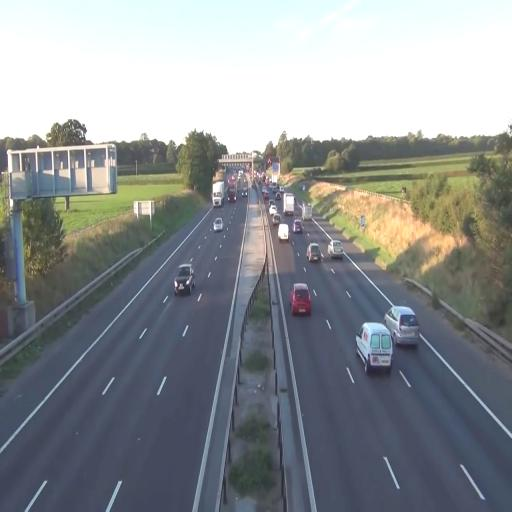vehicle: (355, 321, 393, 375), (384, 306, 420, 348), (290, 282, 312, 316), (174, 264, 194, 296), (225, 167, 238, 203), (212, 173, 224, 207), (307, 242, 323, 266), (212, 179, 224, 207), (330, 240, 344, 259), (278, 222, 289, 242), (292, 219, 304, 235), (213, 216, 223, 232)
